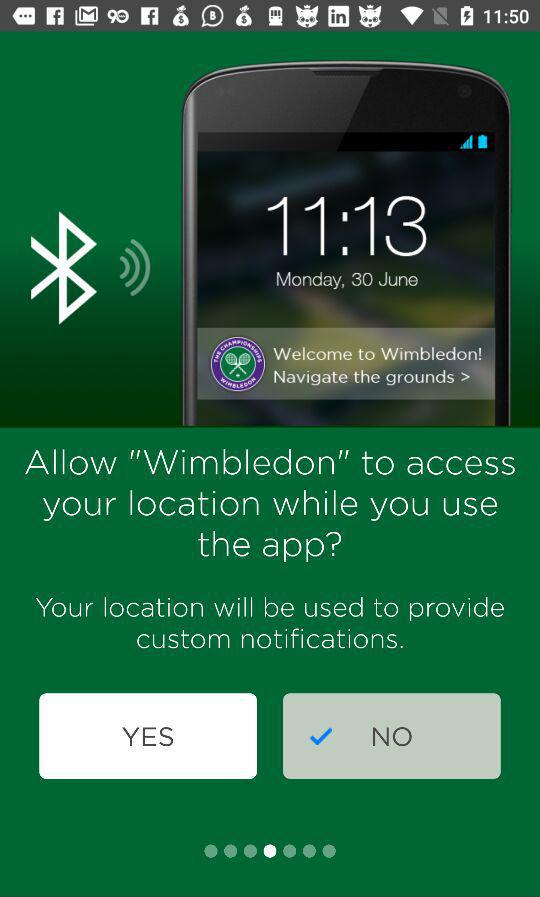Image: (1, 33, 540, 428)
PageIndicator: (203, 842, 337, 860)
Text: (25, 448, 516, 563), (36, 597, 505, 650)
TextButton: (283, 692, 502, 780), (39, 693, 258, 780)
UpperTaskBar: (1, 1, 540, 33)
